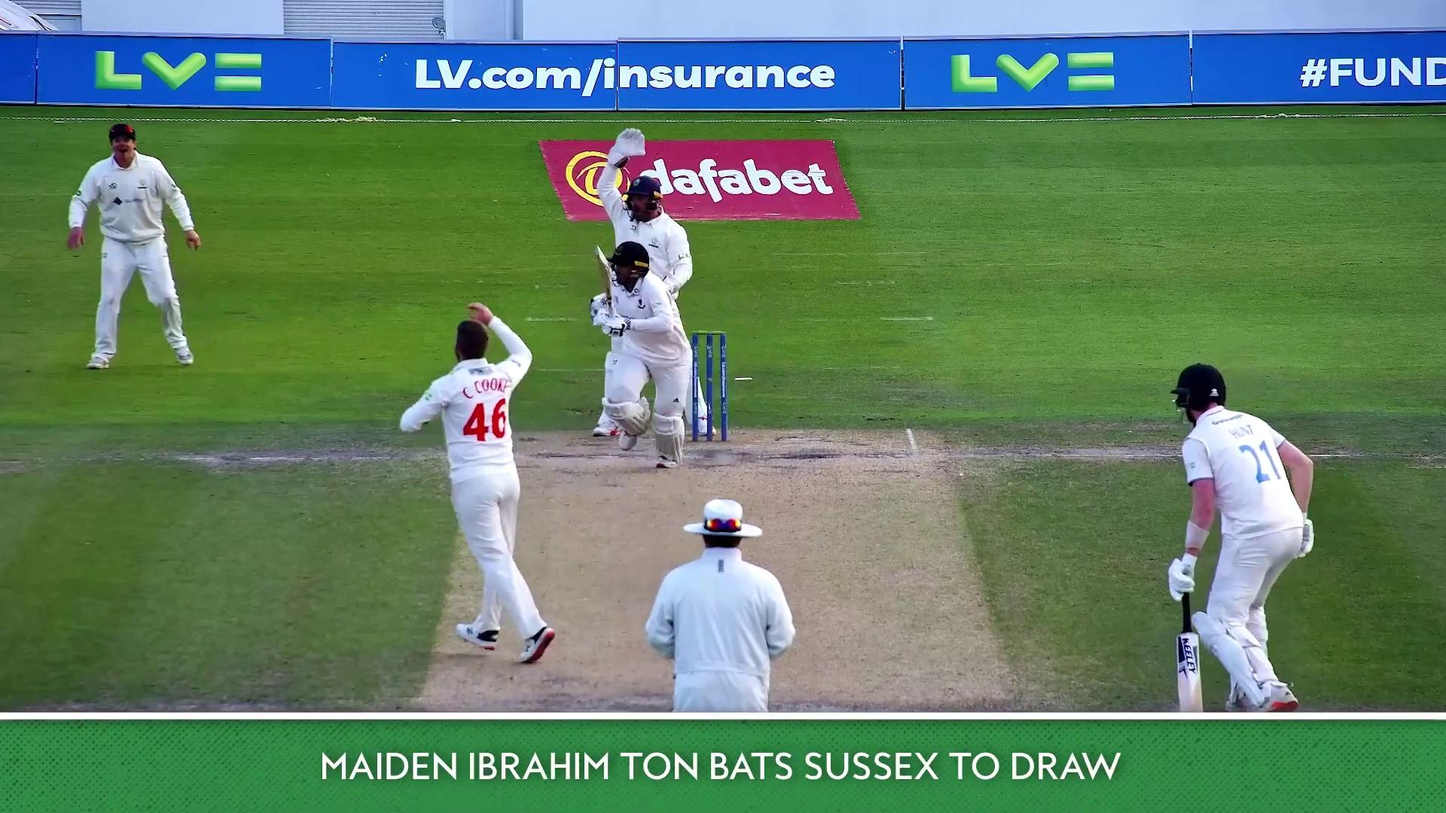batsman: (588, 244, 694, 468)
